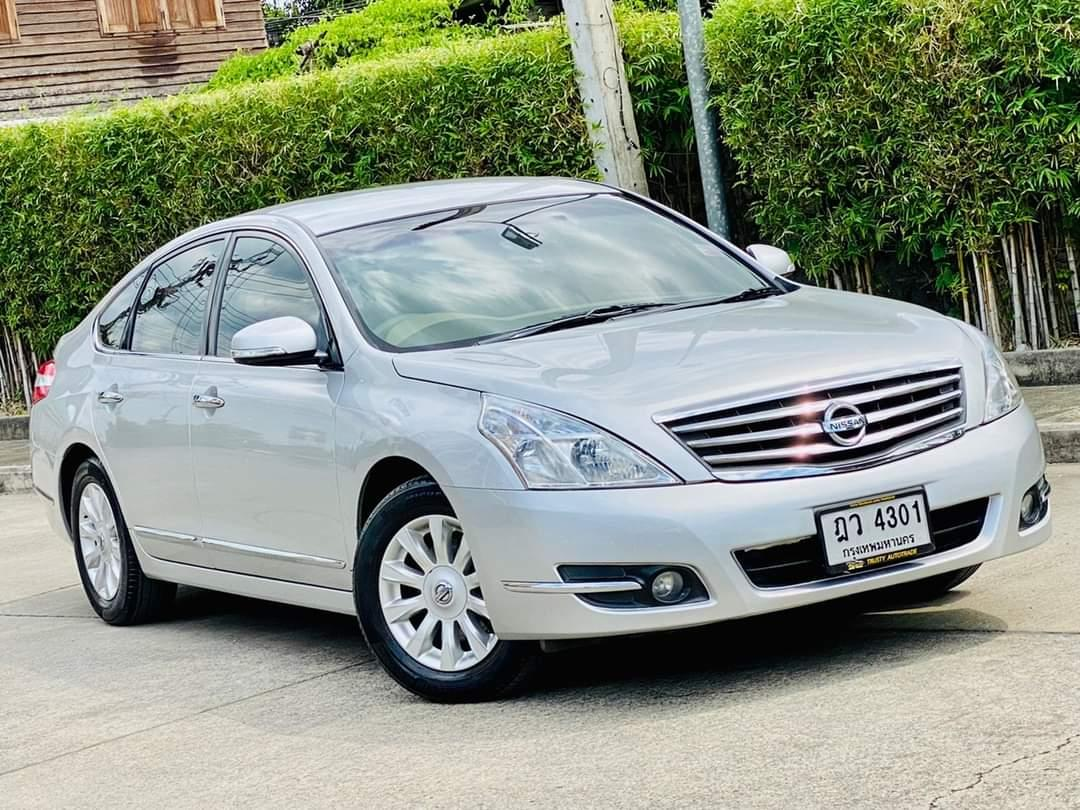license-plate: (809, 479, 937, 581)
